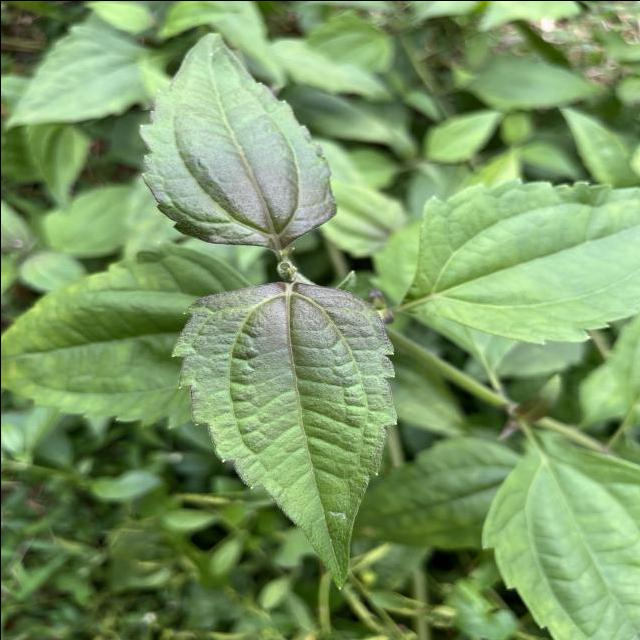Chromolaena odorata: (166, 278, 404, 592), (132, 25, 340, 251)
